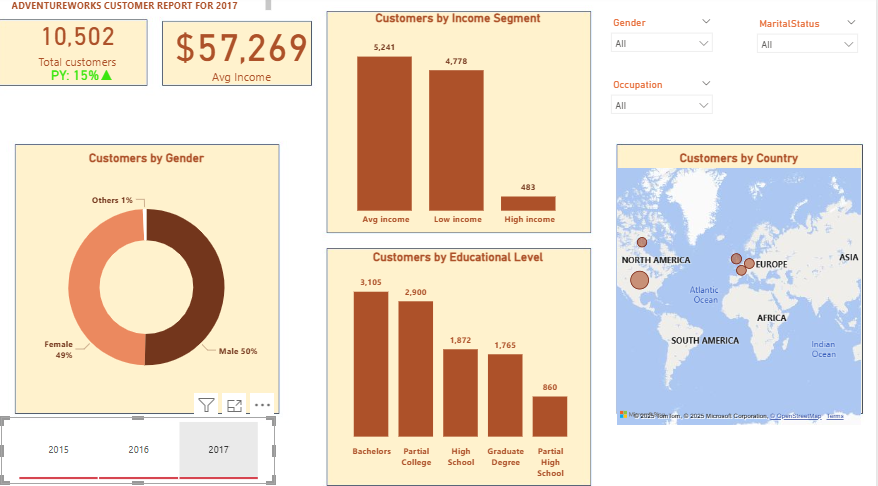

Layout of this report page (visuals, bound fields, positions):
{"tool":"powerbi","page":{"name":"CUSTOMER REPORT","canvas":[1280,720],"ordinal":0},"visuals":[{"type":"qnaVisual","box":[11.4,98.7,24.1,211.4],"z":0},{"type":"card","fields":{"Values":["DAX MEASURES.Total customers"]},"box":[35.6,0,227.8,128.9],"z":1000},{"type":"slicer","fields":{"Values":["Calendar.Year"]},"box":[41.1,596.7,388.3,95],"z":2000},{"type":"card","fields":{"Values":["DAX MEASURES.Avg Income"]},"box":[263.3,24.4,236.7,104.4],"z":3000},{"type":"card","fields":{"Values":["AdventureWorks _Sales.Customer Growth %"]},"box":[77.8,94.4,156.7,34.4],"z":4000},{"type":"columnChart","title":"Customers by Income Segment","fields":{"Y":["DAX MEASURES.Total customers"],"Category":["AdventureWorks_Customers - AdventureWorks_Customers (1).IncomeSegment"]},"box":[500.3,21.3,377,313.2],"z":5000},{"type":"columnChart","title":"Customers by Educational Level","fields":{"Category":["AdventureWorks_Customers - AdventureWorks_Customers (1).Educationa lLevel"],"Y":["DAX MEASURES.Total customers"]},"box":[501.7,360,374.2,331.7],"z":6000},{"type":"donutChart","title":"Customers by Gender","fields":{"Category":["AdventureWorks_Customers - AdventureWorks_Customers (1).Gender"],"Y":["DAX MEASURES.Total customers"]},"box":[65.2,219.7,364.3,367.1],"z":7000},{"type":"slicer","fields":{"Values":["AdventureWorks_Customers - AdventureWorks_Customers (1).Gender"]},"box":[895.7,24.1,164.4,70.9],"z":8000},{"type":"slicer","fields":{"Values":["AdventureWorks_Customers - AdventureWorks_Customers (1).Occupation"]},"box":[895.7,112,164.4,70.9],"z":9000},{"type":"slicer","fields":{"Values":["AdventureWorks_Customers - AdventureWorks_Customers (1).MaritalStatus"]},"box":[1102.7,25.5,163,75.1],"z":10000},{"type":"textbox","box":[51,0,378.4,25.5],"z":11000},{"type":"actionButton","box":[0,0,100,40],"z":12000},{"type":"map","title":"Customers by Country","fields":{"Category":["AdventureWorks_Territories - AdventureWorks_Territories.Country"],"Size":["DAX MEASURES.Total customers"]},"box":[908.5,219.7,357.2,392.6],"z":13000}]}

Visuals, with their boxes in screenshot pixels (x1, y1, x2, y2), scaled from the page's 1280x720 canvas onto the 878x486 screenshot:
qnaVisual: BBox(8, 67, 24, 209)
card - DAX MEASURES.Total customers: BBox(24, 0, 181, 87)
slicer - Calendar.Year: BBox(28, 403, 295, 467)
card - DAX MEASURES.Avg Income: BBox(181, 16, 343, 87)
card - AdventureWorks _Sales.Customer Growth %: BBox(53, 64, 161, 87)
"Customers by Income Segment" columnChart: BBox(343, 14, 602, 226)
"Customers by Educational Level" columnChart: BBox(344, 243, 601, 467)
"Customers by Gender" donutChart: BBox(45, 148, 295, 396)
slicer - AdventureWorks_Customers - AdventureWorks_Customers (1).Gender: BBox(614, 16, 727, 64)
slicer - AdventureWorks_Customers - AdventureWorks_Customers (1).Occupation: BBox(614, 76, 727, 123)
slicer - AdventureWorks_Customers - AdventureWorks_Customers (1).MaritalStatus: BBox(756, 17, 868, 68)
textbox: BBox(35, 0, 295, 17)
actionButton: BBox(0, 0, 69, 27)
"Customers by Country" map: BBox(623, 148, 868, 413)
